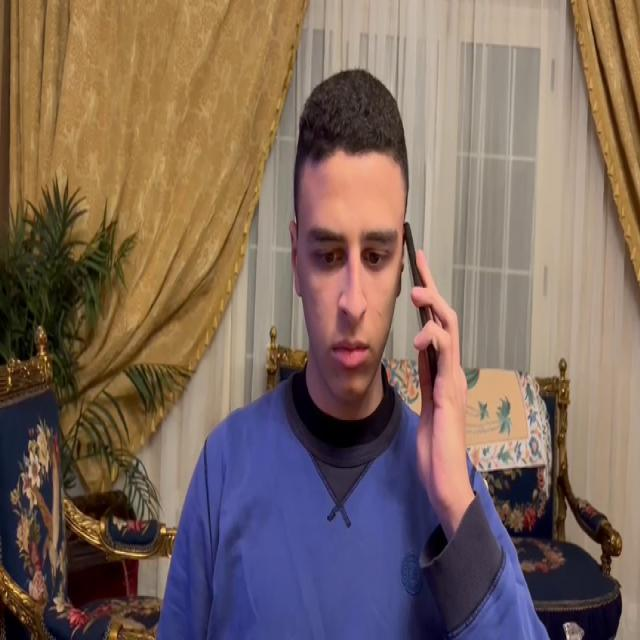phone: (402, 218, 445, 384)
